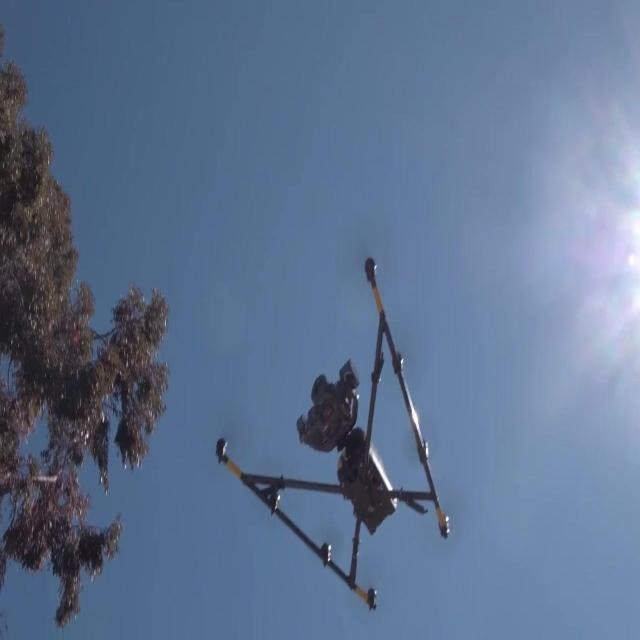drone: (214, 255, 451, 612)
